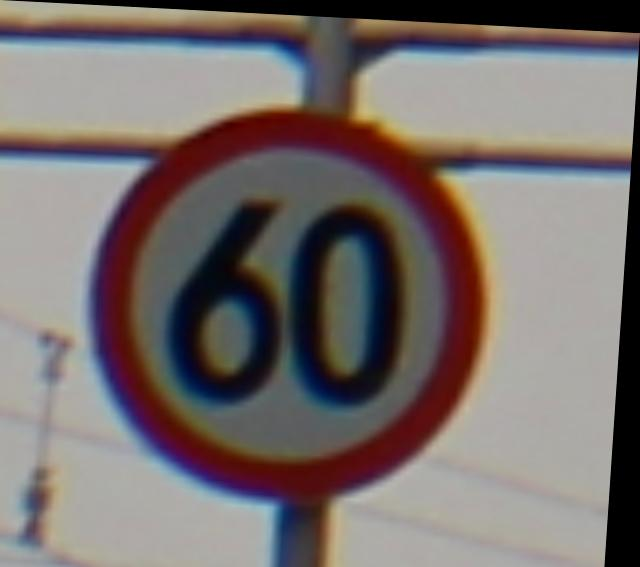limit60: (71, 82, 523, 513)
